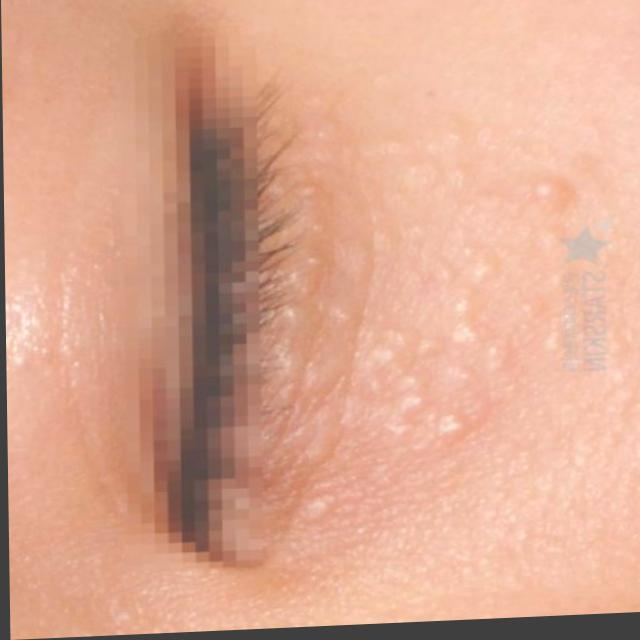7: (350, 322, 494, 459)
blackheads: (280, 338, 358, 526)
papules: (384, 106, 489, 218), (428, 231, 527, 334), (511, 166, 580, 234)
